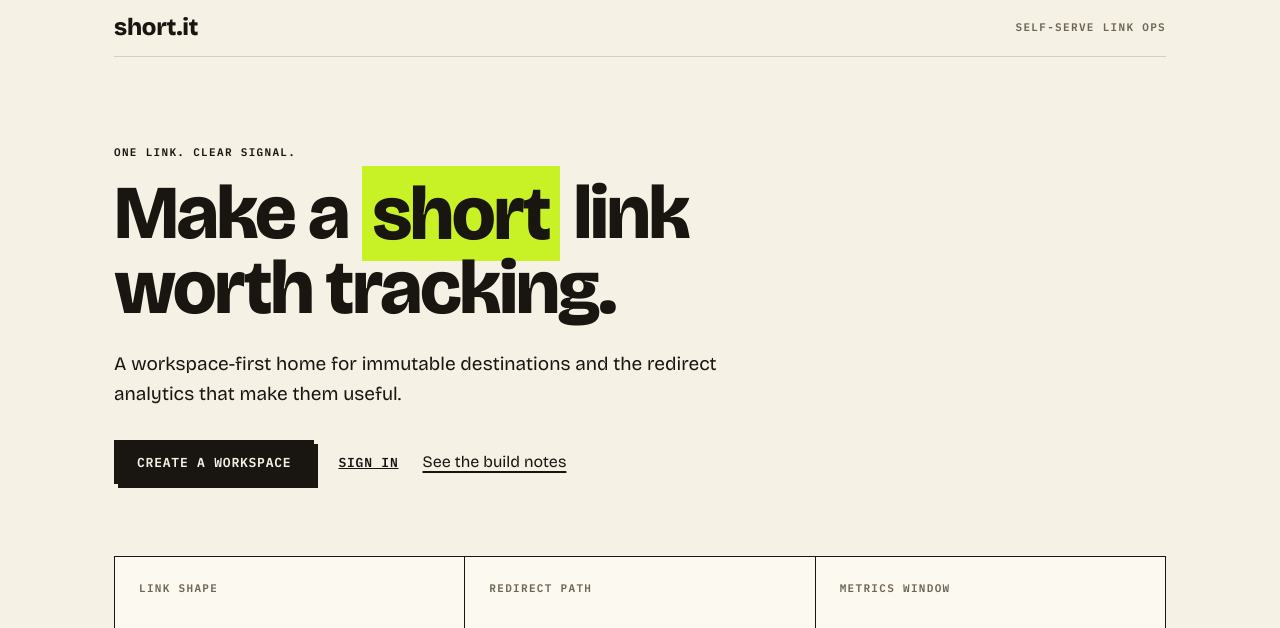
Test: App › opens the self-service account form
Click the button "Create a workspace": click(214, 462) [114,440,314,484]
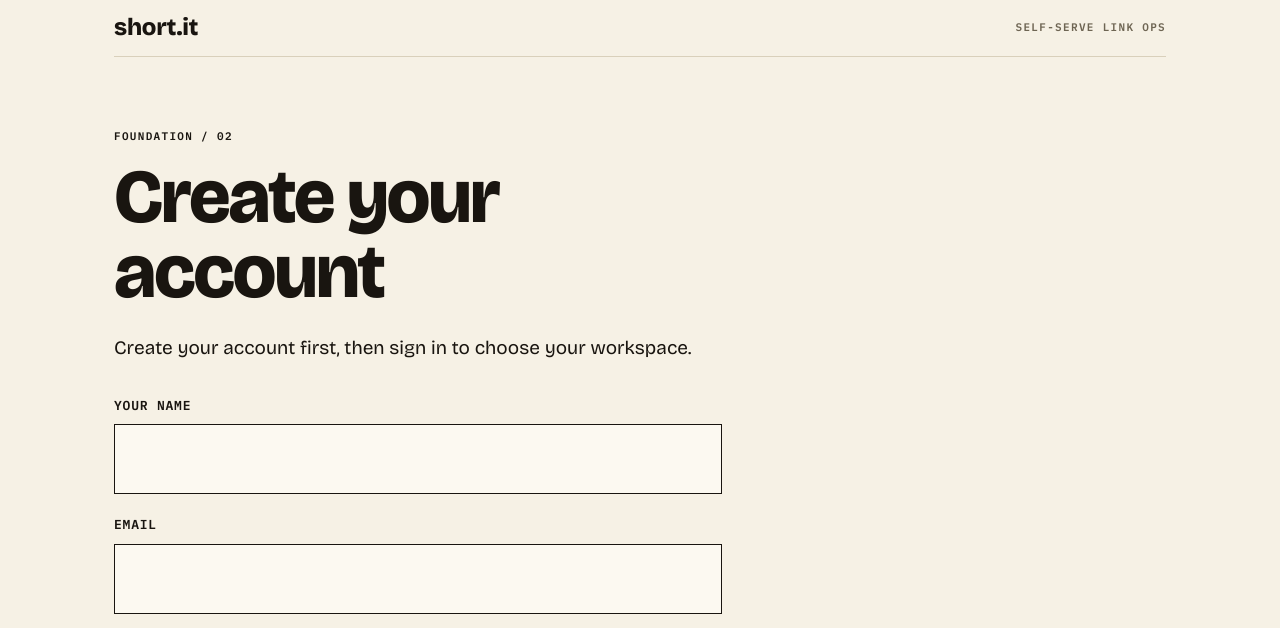
Result: the heading "Create your account" is shown at [114,151,499,318]
